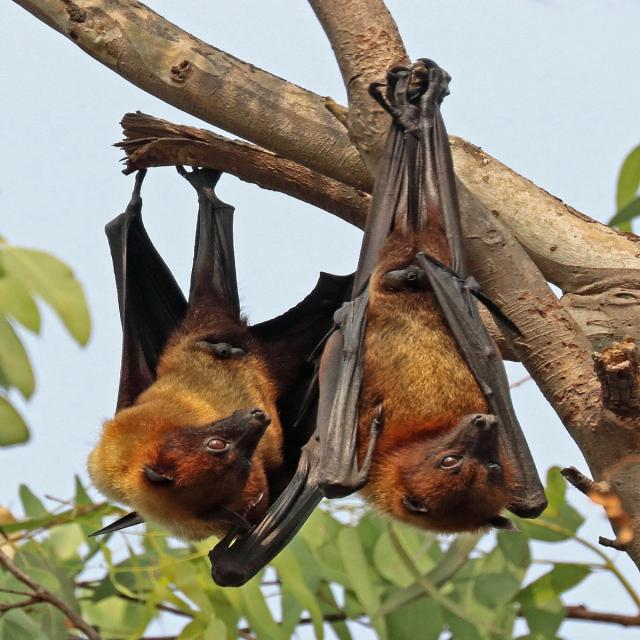bat: (88, 165, 355, 586), (314, 59, 548, 532)
